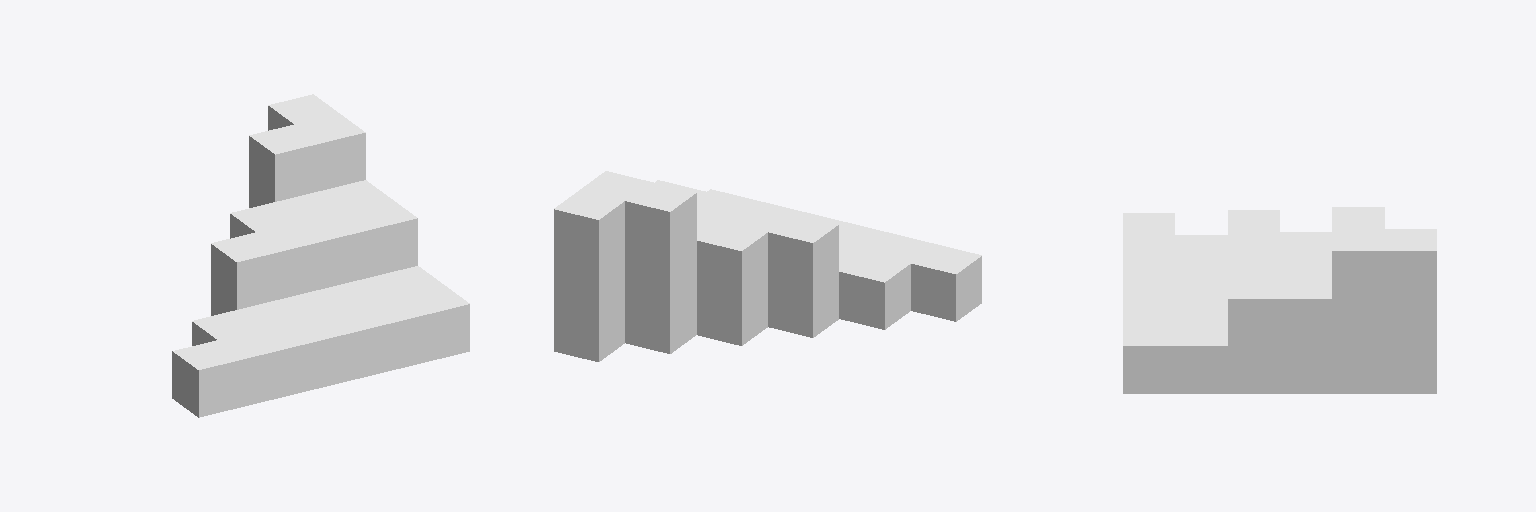
Rendered from ShortTriangleSlope.obj.
3 renders of one model, left to right at view 1: azimuth 30°, elevation 25°; view 2: azimuth 150°, elevation 25°; view 3: azimuth 270°, elevation 25°, orthographic.
Visible parts, largest first — view 1: object 1; view 2: object 1; view 3: object 1.
Part boxes in pixels (x1,y1,x2,y2): object 1: (172, 94, 469, 417); object 1: (554, 171, 981, 361); object 1: (1123, 207, 1436, 393).
Size of the model in its own units: 0.6 by 0.3 by 0.6.